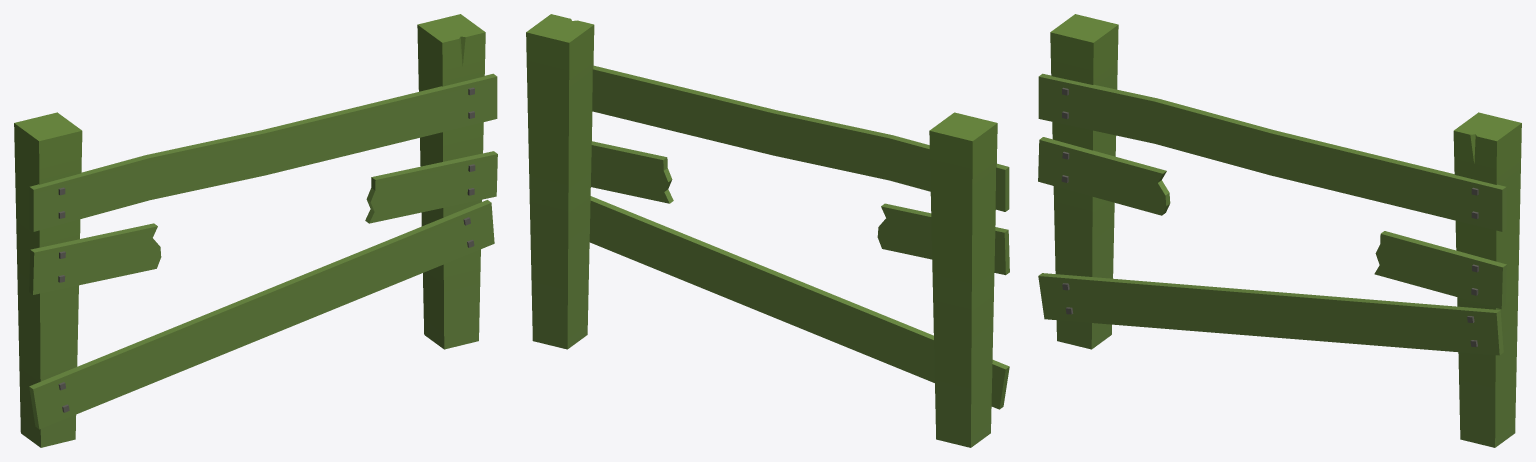
The model's file is Fence_03.fbx.
3 renders of one model, left to right at view 1: azimuth 30°, elevation 25°; view 2: azimuth 150°, elevation 25°; view 3: azimuth 330°, elevation 25°, orthographic.
Visible parts, largest first — view 1: Fence_03; view 2: Fence_03; view 3: Fence_03.
Part boxes in pixels (<box>): Fence_03: <box>14,14,497,447</box>; Fence_03: <box>526,14,1009,447</box>; Fence_03: <box>1038,14,1521,447</box>.
Bounding box in the file's own units: 1.73 × 1.1 × 0.1903.
